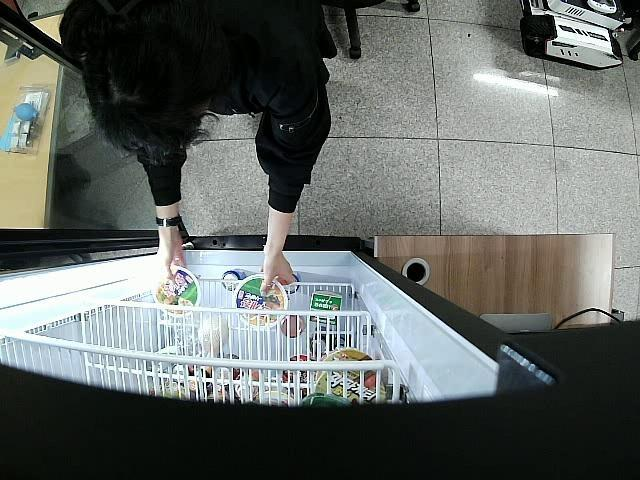09_yukGaeJang: (232, 274, 288, 328), (154, 266, 200, 318)
